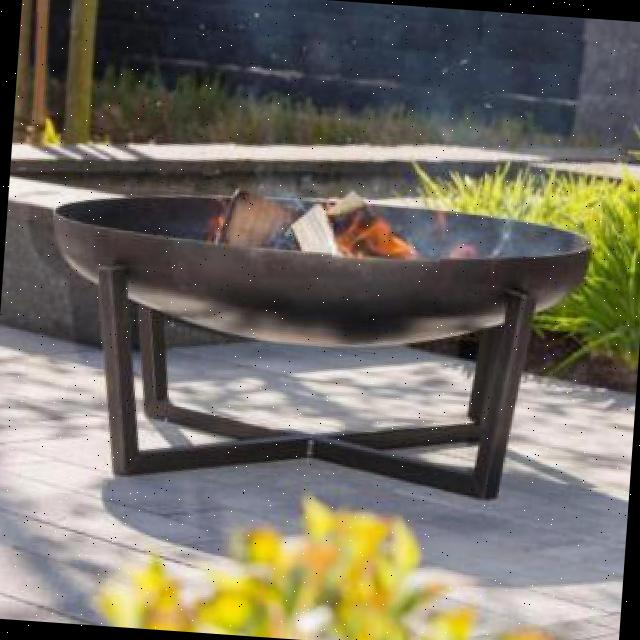fire: (331, 206, 443, 267)
